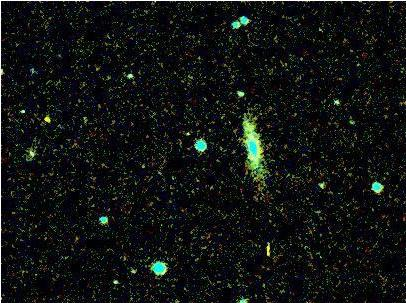star: (33, 103, 63, 133)
